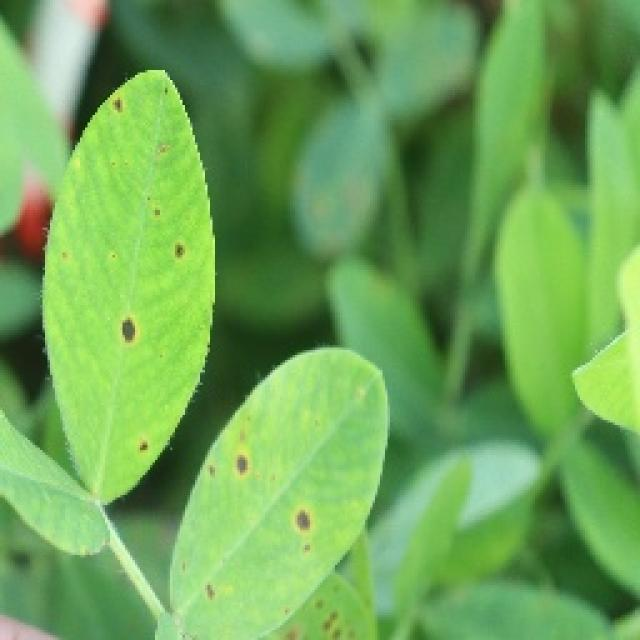Early_leaf_spot: (135, 163, 203, 283), (216, 423, 268, 509), (278, 490, 336, 561), (117, 416, 178, 477), (193, 560, 253, 622), (104, 302, 154, 373), (296, 592, 367, 640), (101, 86, 131, 131)
